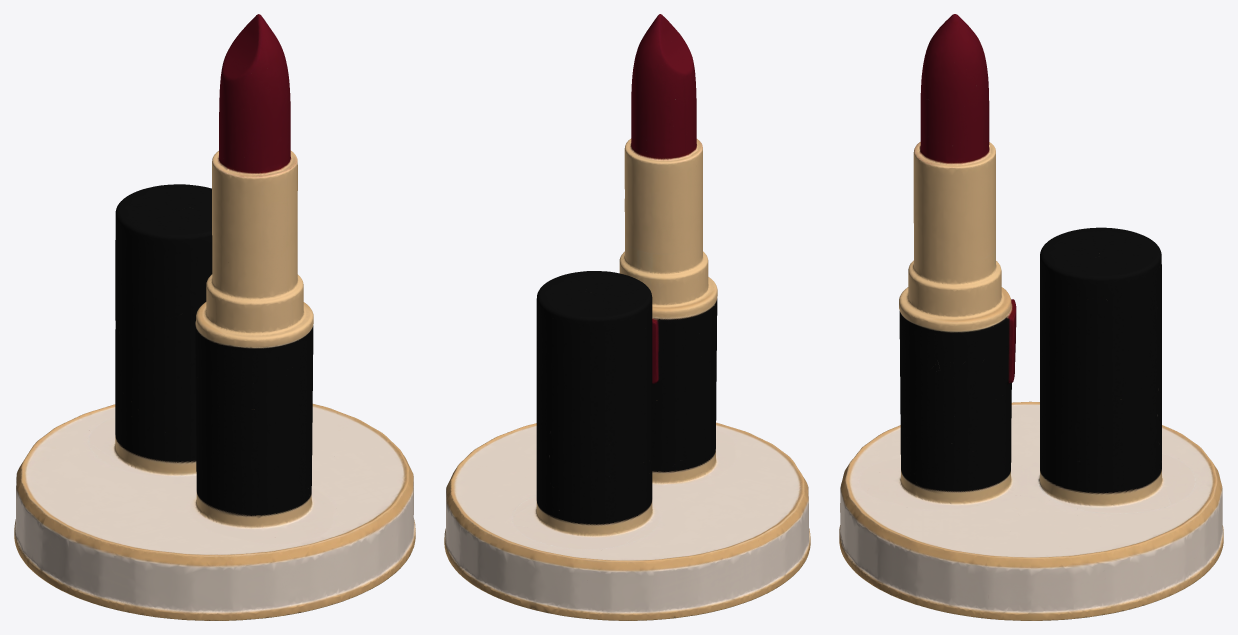
The model's file is hadeel.glb.
The picture shows the model from 3 angles, left to right: view 1: azimuth 30°, elevation 25°; view 2: azimuth 150°, elevation 25°; view 3: azimuth 270°, elevation 25°; orthographic projection. The views are drawn at different scales.
Size of the model in its own units: 1.25 by 1.9 by 1.25.
Materials: 1 (1 with a texture image).
